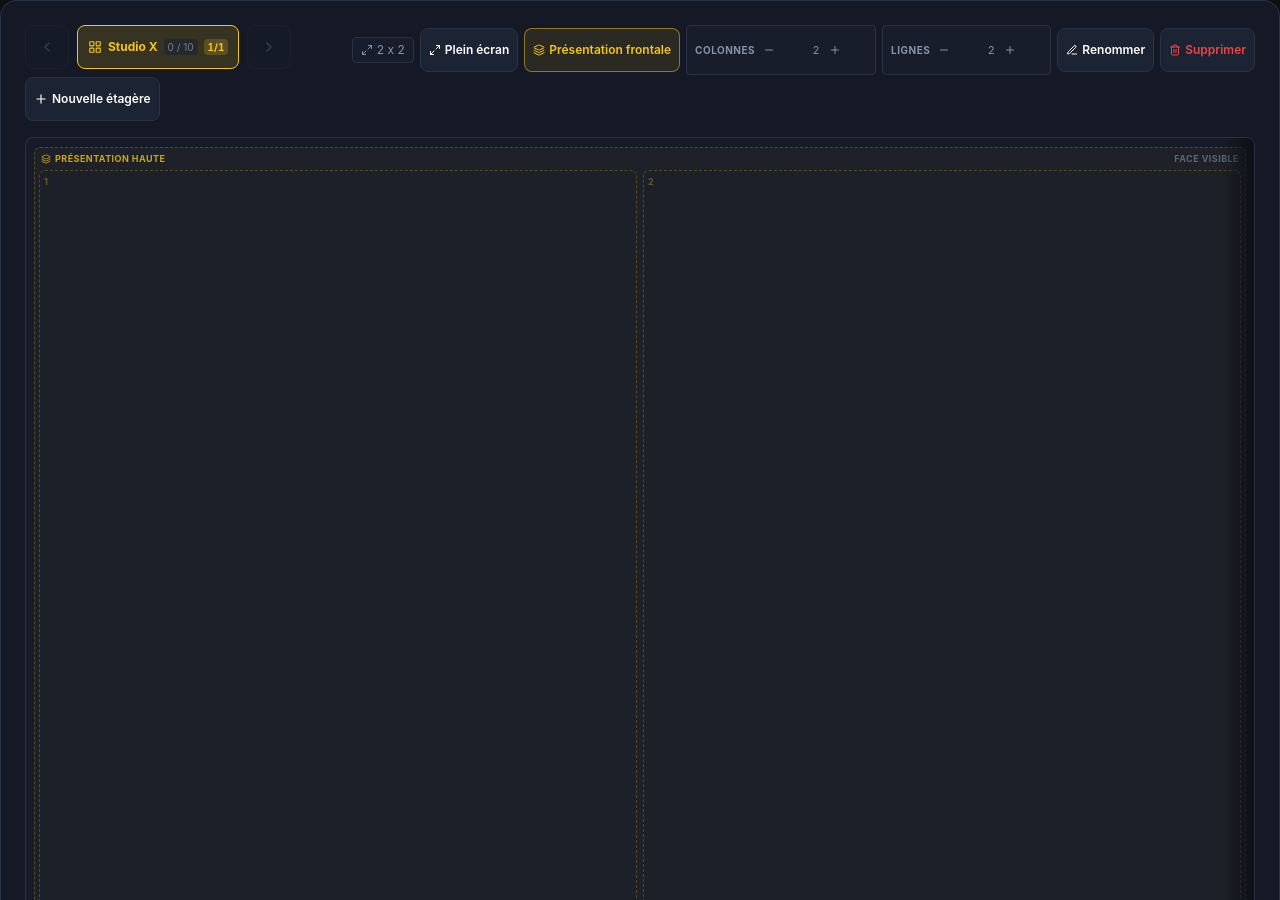
Scenario: ShelfLayoutEditor › cancels shelf creation with Escape, clears the name, then creates with Enter
Click the button "Nouvelle étagère" at (92, 99), box x1=25 y1=77 x2=160 y2=121
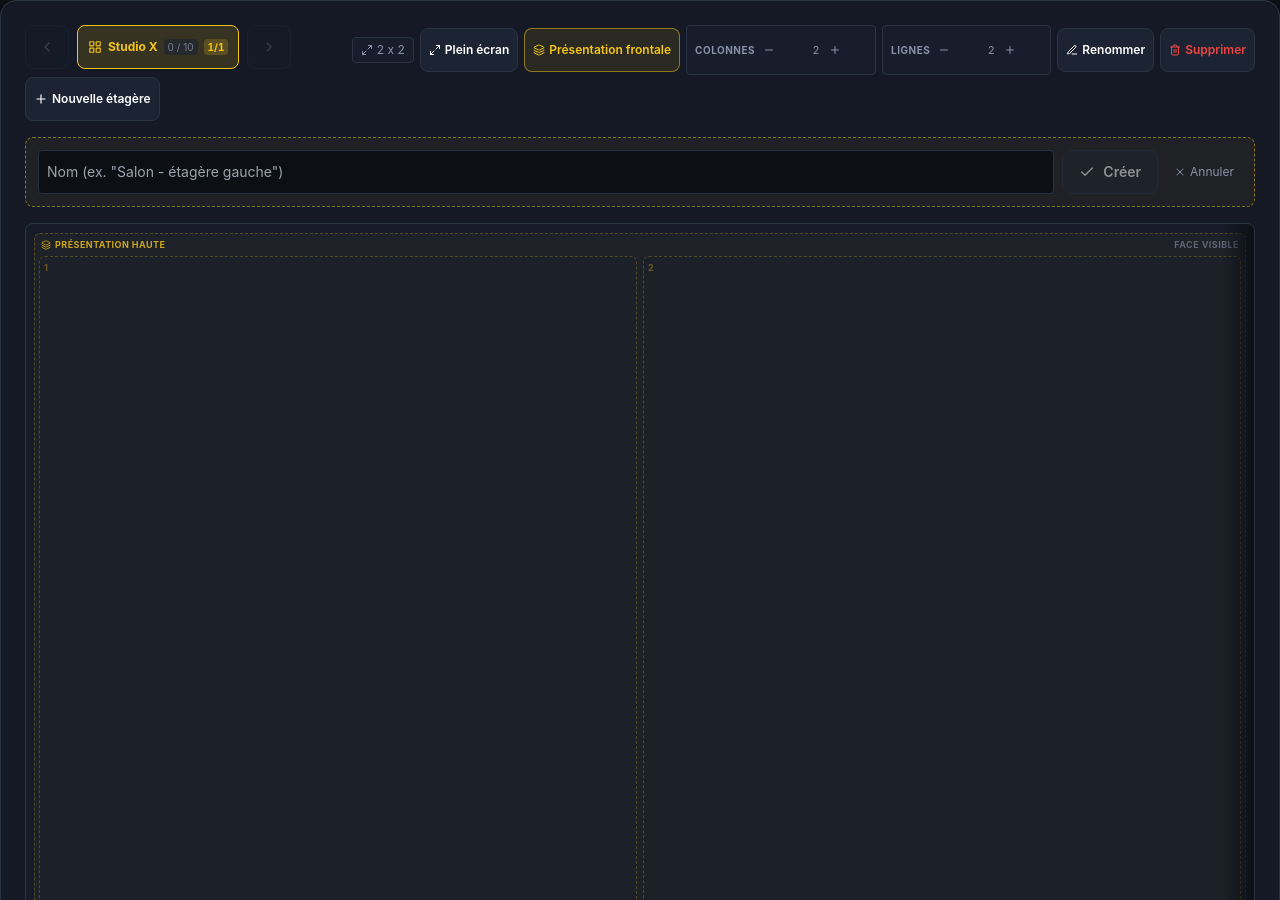
Type "Draft" into the field with placeholder "Nom (ex. \"Salon - étagère gauche\")" at (546, 172), box x1=38 y1=150 x2=1054 y2=194
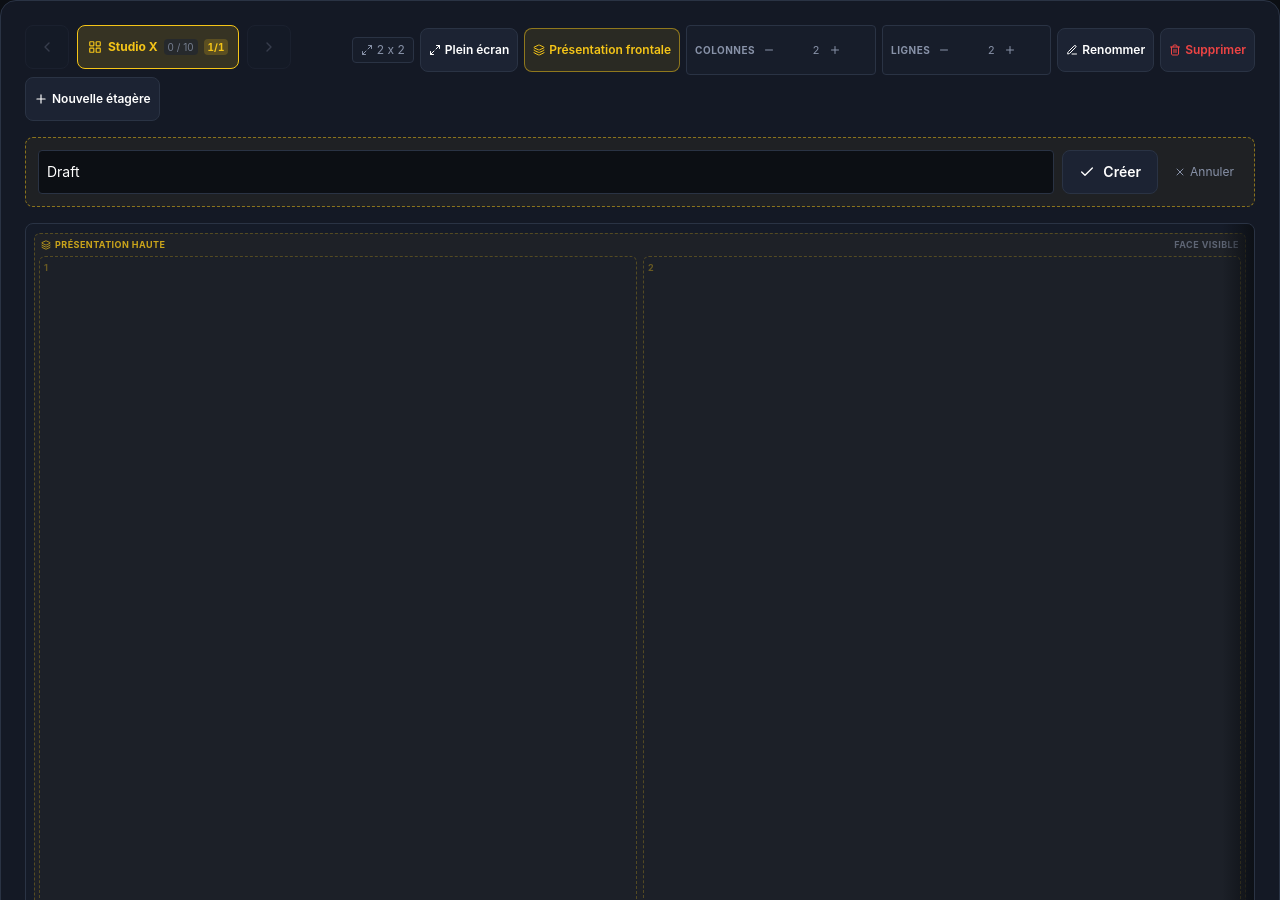
Press Escape in the field with placeholder "Nom (ex. \"Salon - étagère gauche\")", box x1=38 y1=150 x2=1054 y2=194
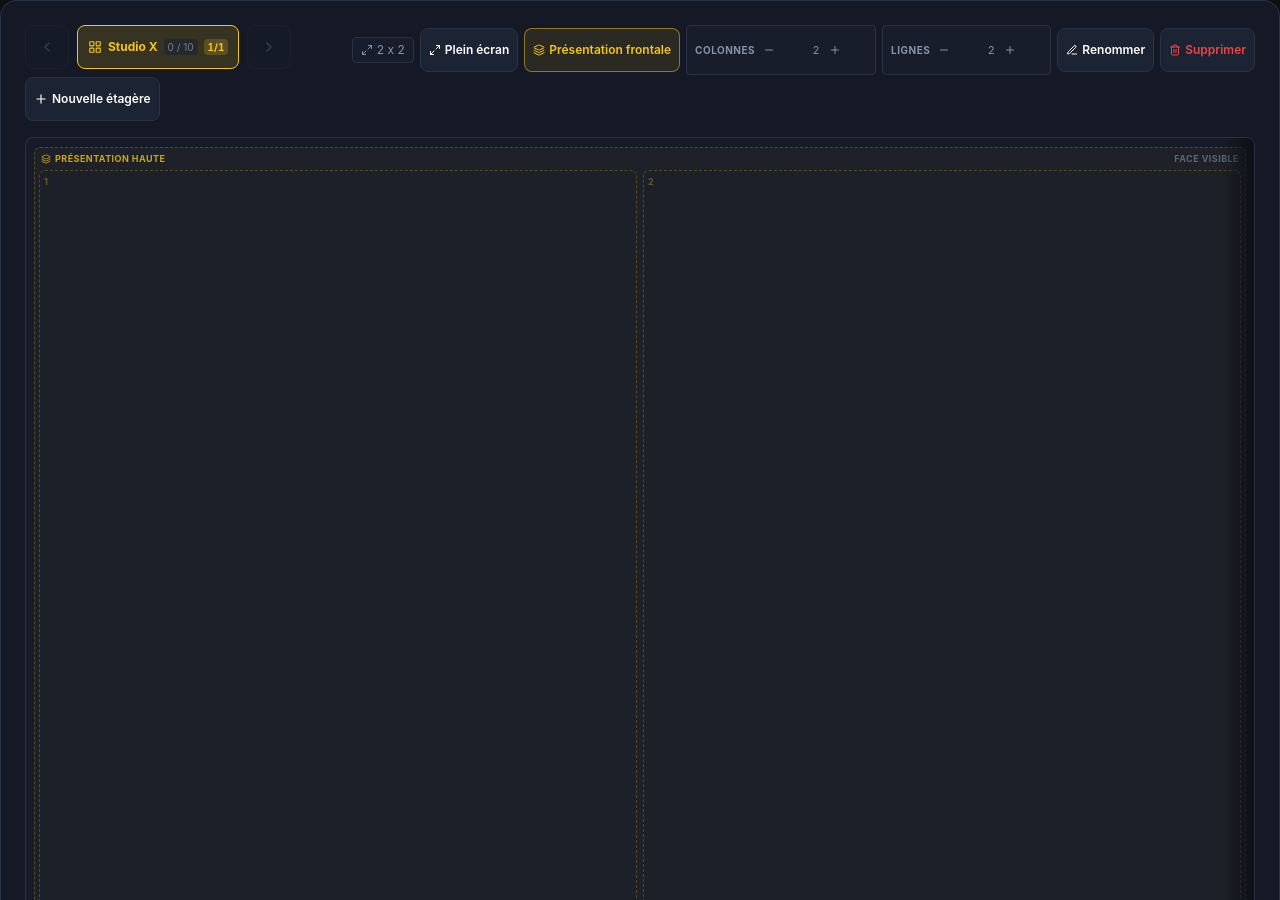
Expected: the field with placeholder "Nom (ex" is not shown
Click the button "Nouvelle étagère" at (92, 99), box x1=25 y1=77 x2=160 y2=121
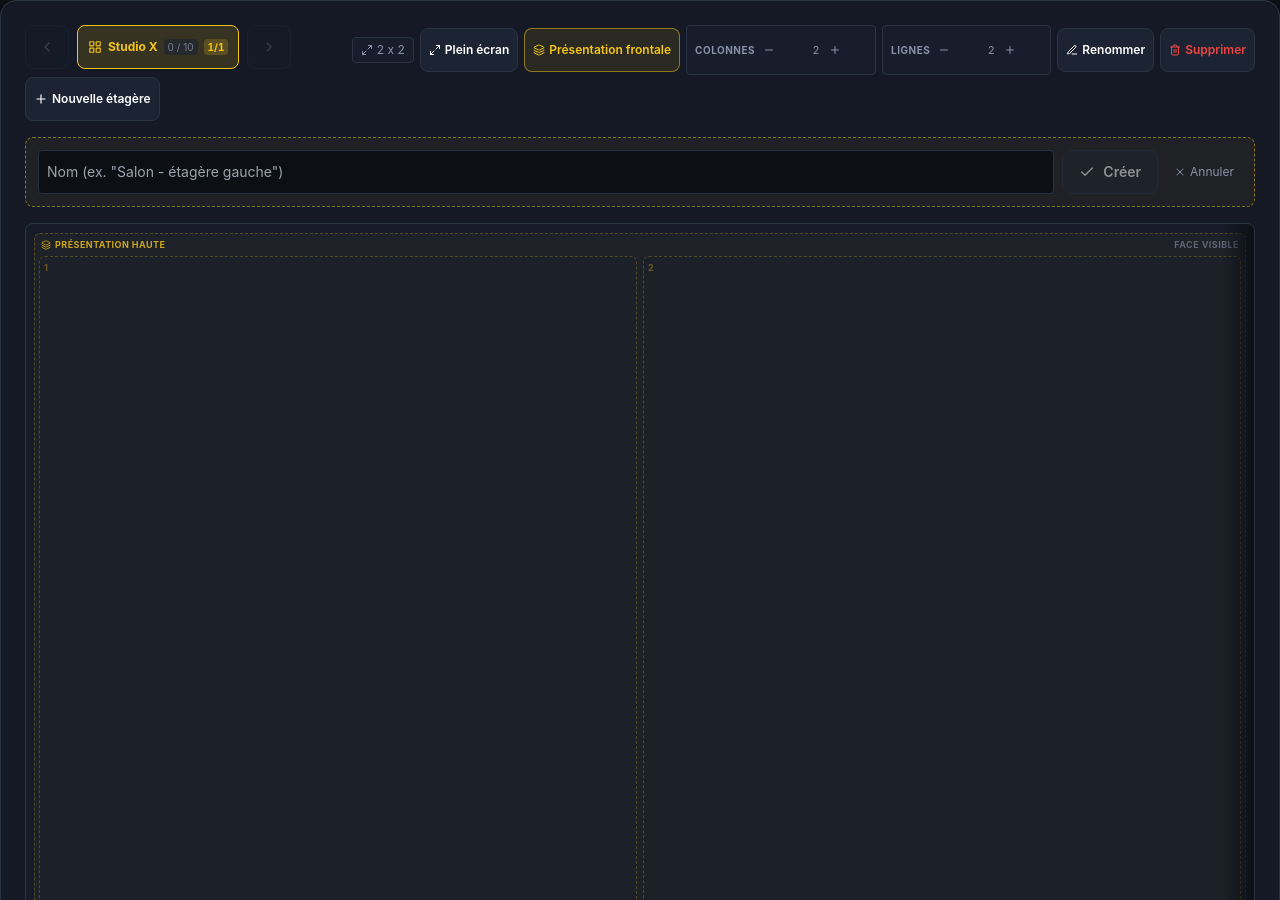
Expected: the field with placeholder "Nom (ex. \"Salon - étagère gauche\")" is empty
Type "Keyboard Shelf" into the field with placeholder "Nom (ex. \"Salon - étagère gauche\")" at (546, 172), box x1=38 y1=150 x2=1054 y2=194
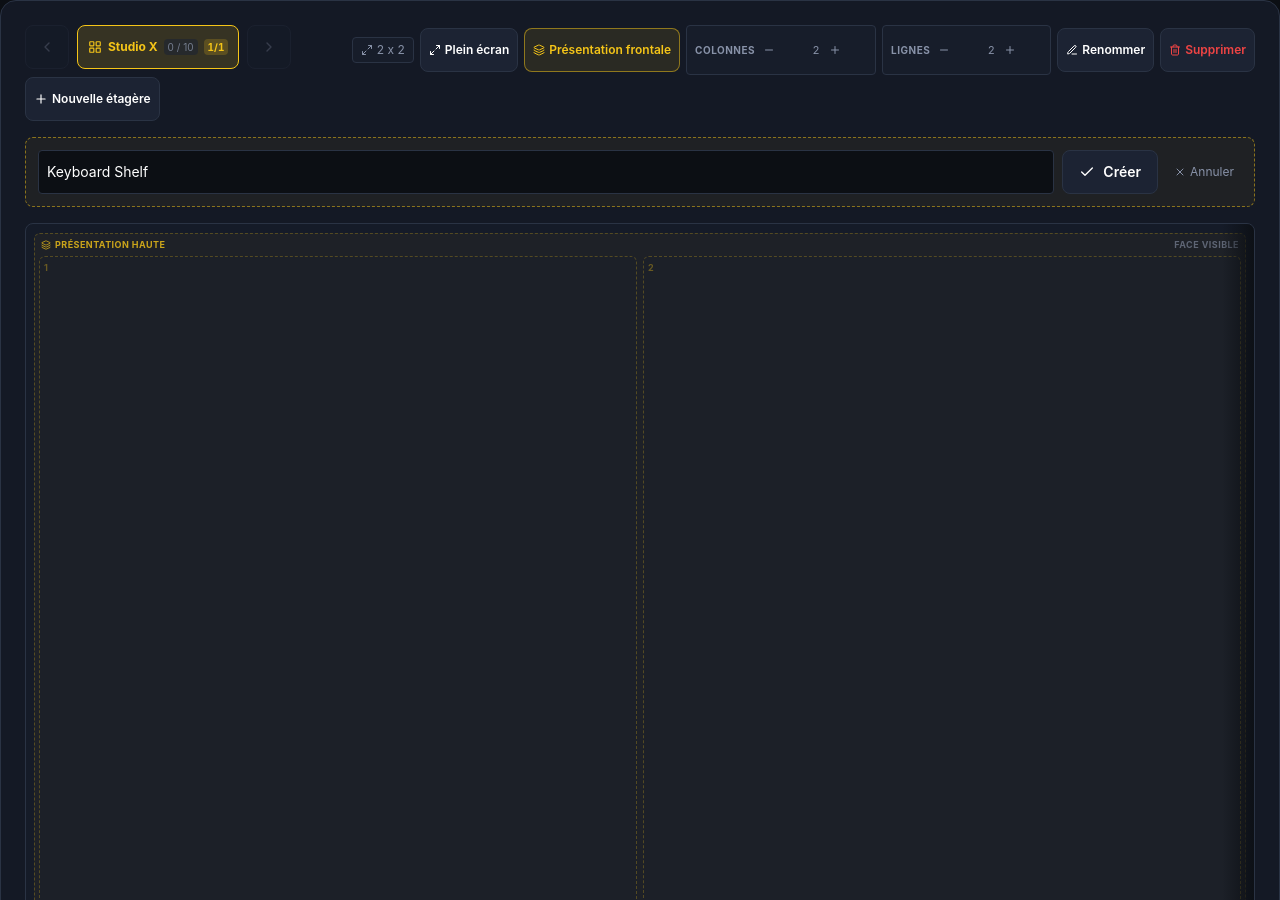
Press Enter in the field with placeholder "Nom (ex. \"Salon - étagère gauche\")", box x1=38 y1=150 x2=1054 y2=194
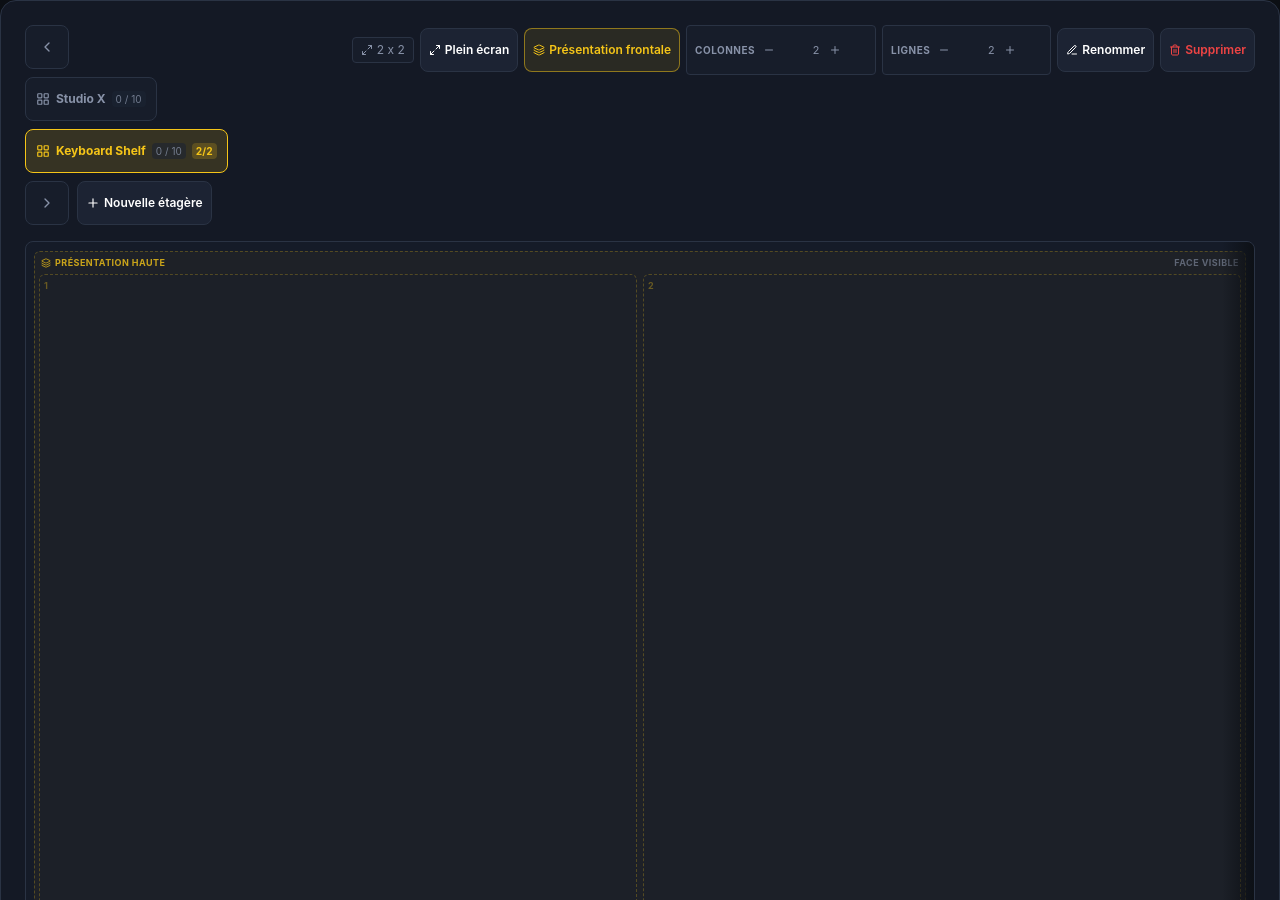
Expected: the tab "Keyboard Shelf 0 / 10 2/2" is shown, x1=25 y1=129 x2=228 y2=173
